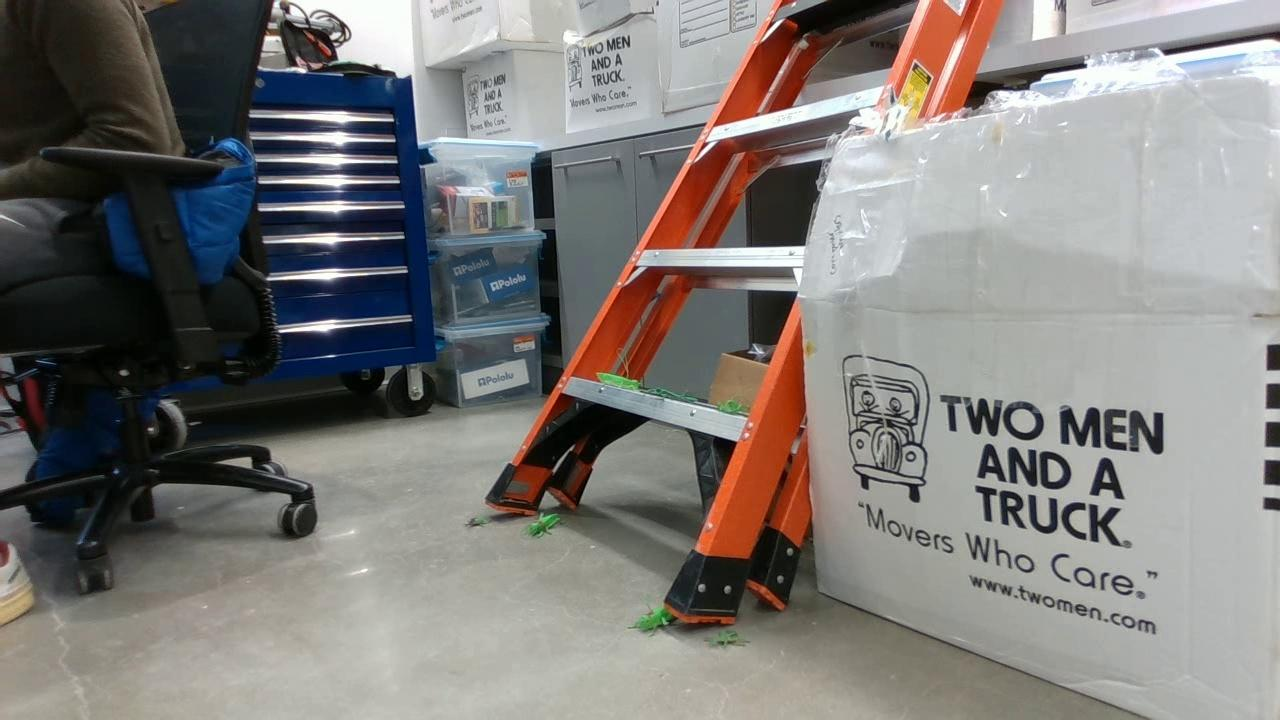grasshopper: (621, 602, 675, 637), (520, 513, 568, 542), (594, 371, 640, 392), (712, 398, 744, 418)
